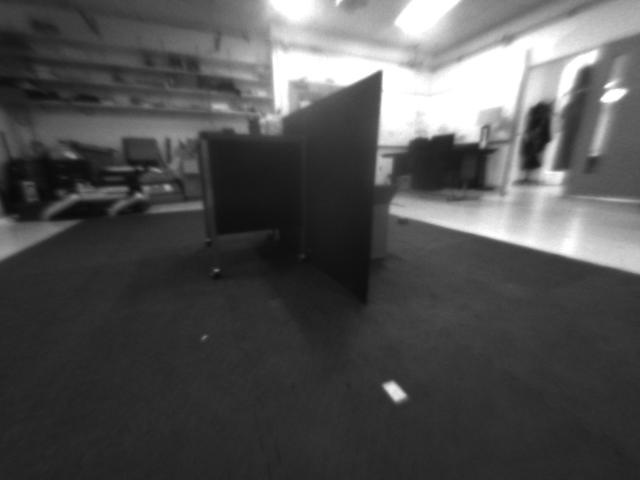dogtoy: (391, 212, 413, 231)
